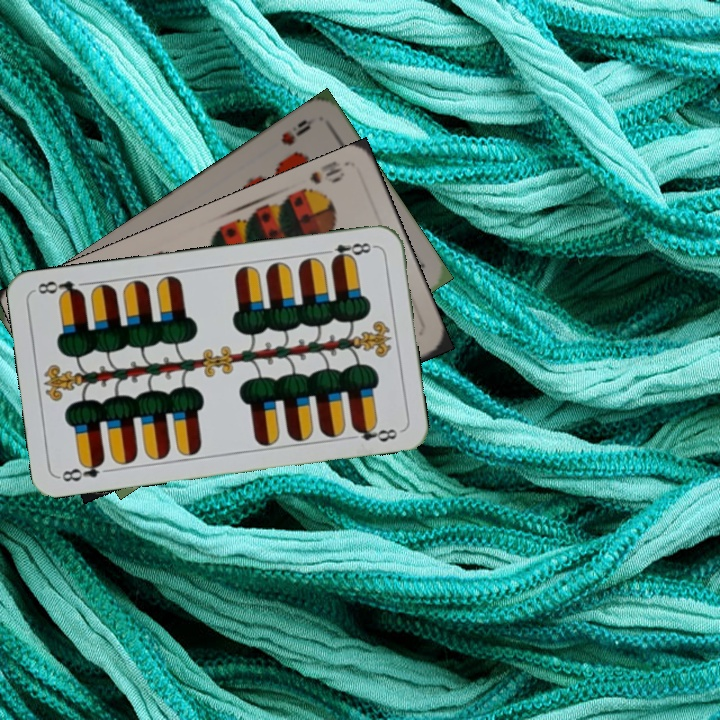E8: (56, 455, 108, 485), (319, 239, 378, 265)
H9: (276, 115, 313, 148)
S10: (295, 157, 347, 199)
